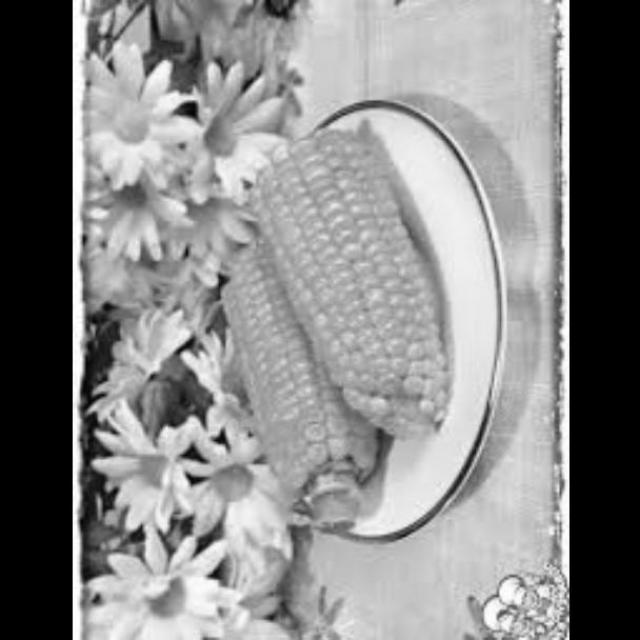cereal: (232, 124, 467, 453), (211, 260, 389, 563)
